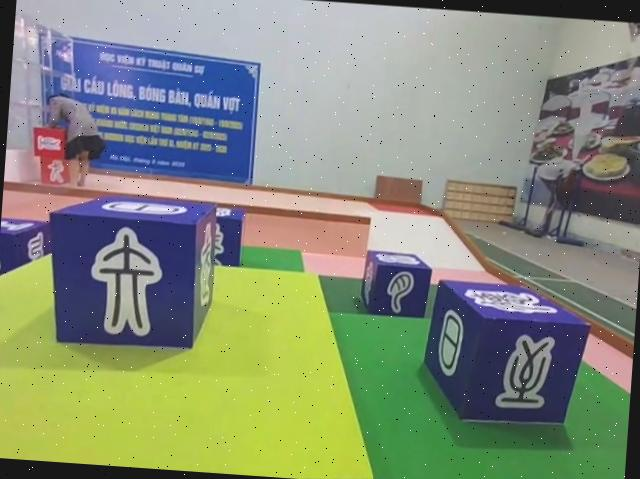R2 Fake Blue: (42, 189, 221, 355), (419, 277, 592, 430), (357, 249, 431, 320), (0, 215, 50, 285)
